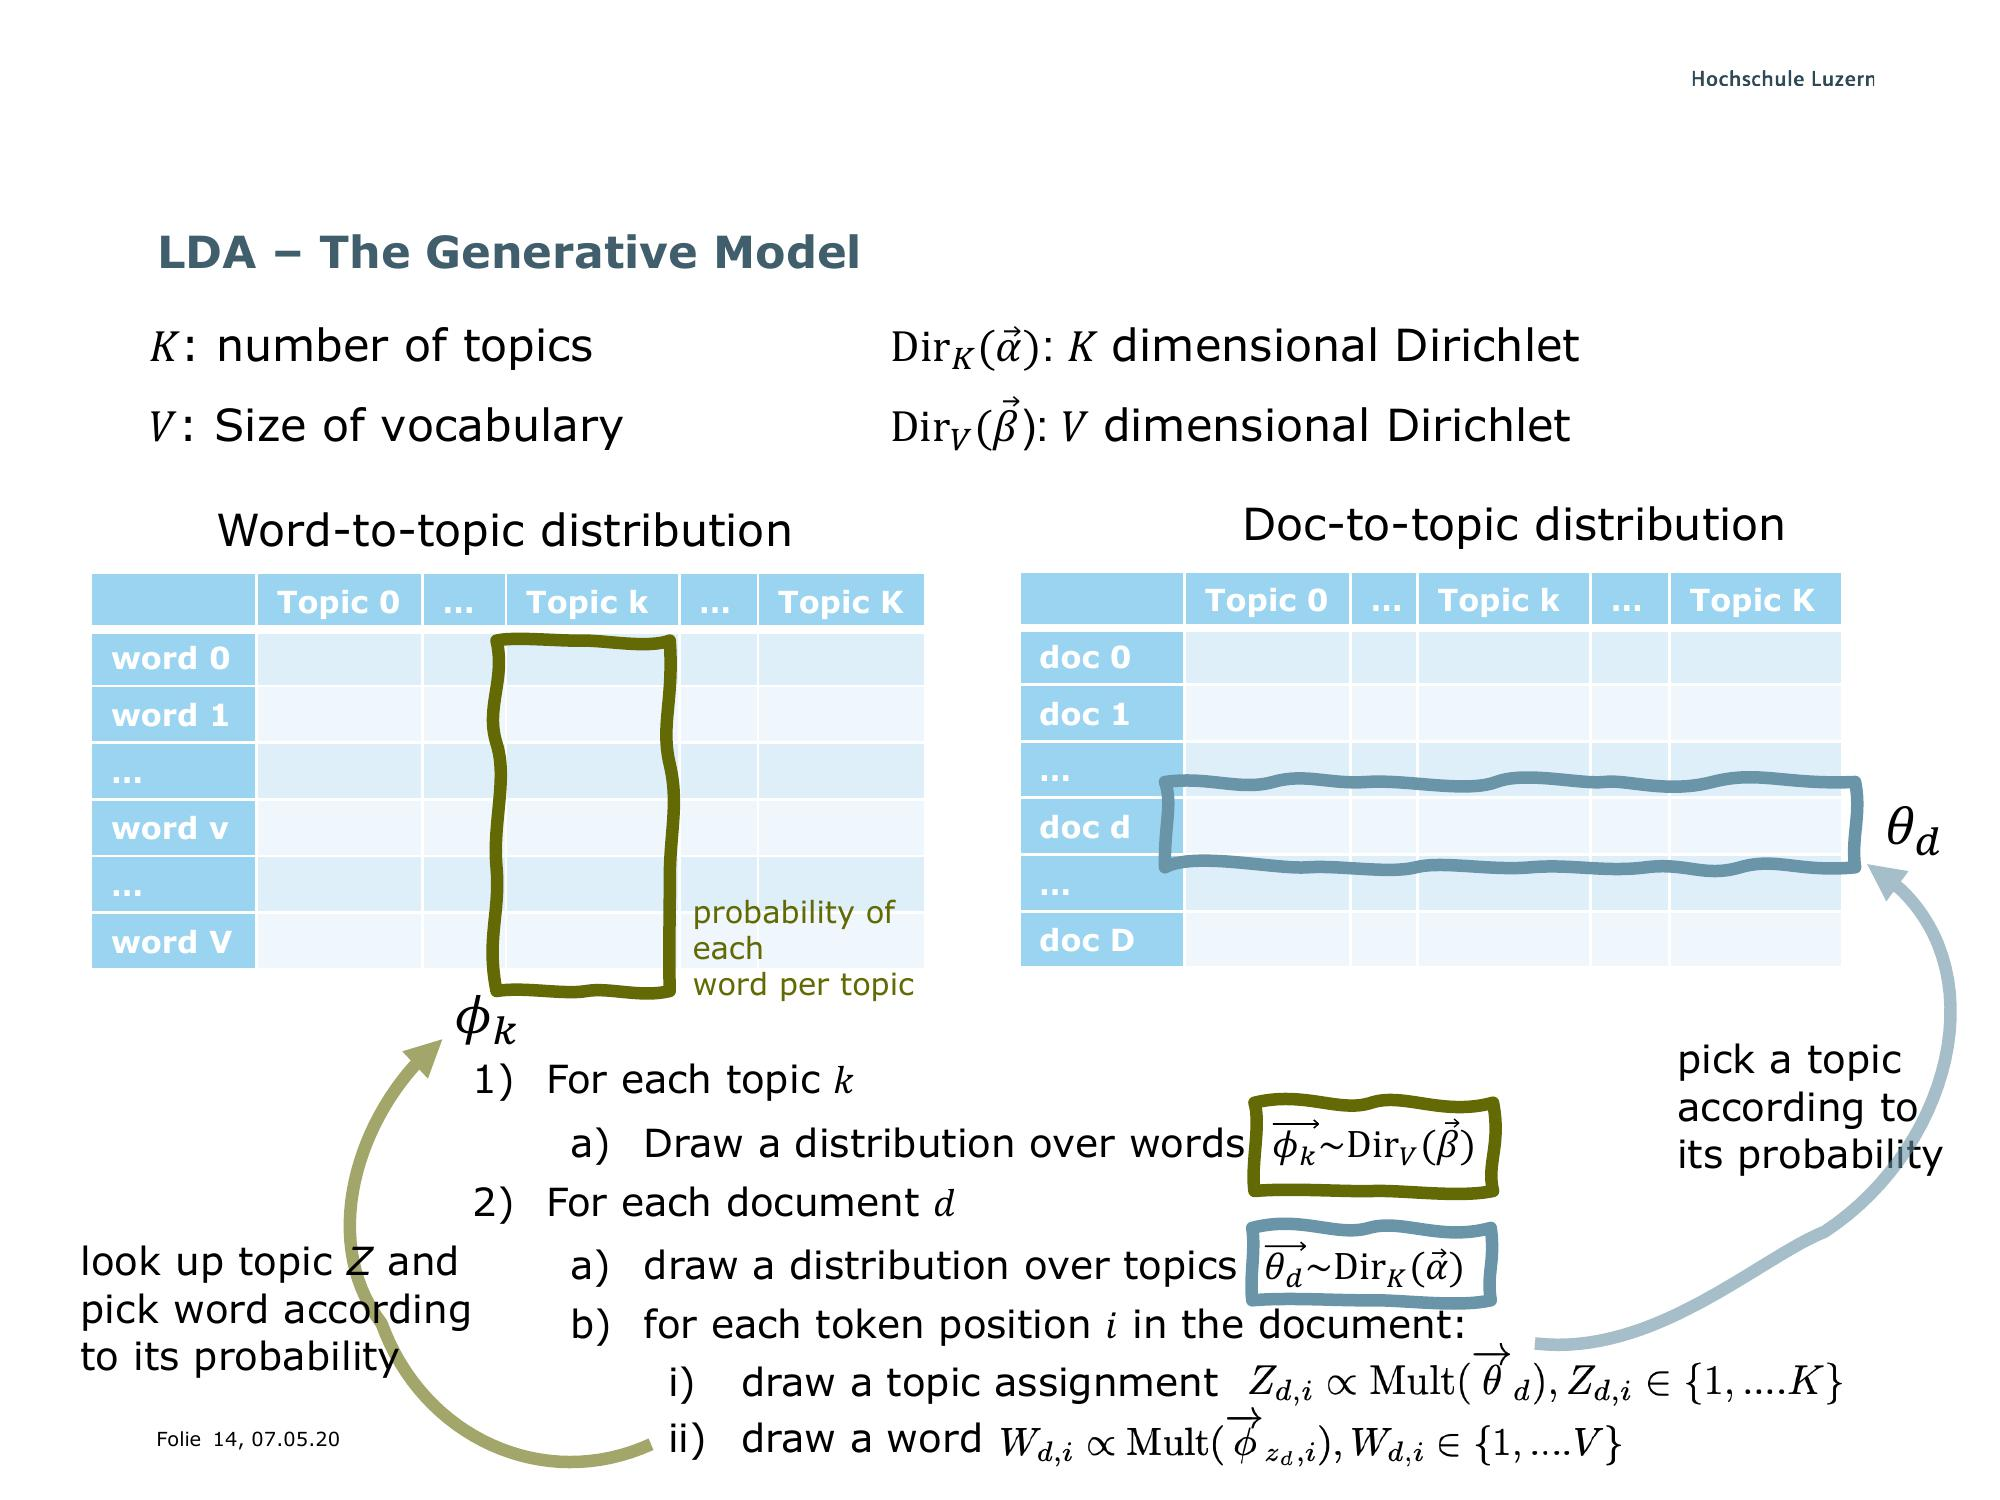Title: (112, 206, 880, 288)
